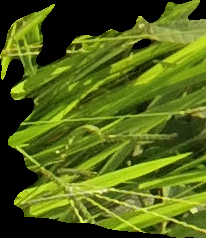grass: (1, 1, 205, 236)
